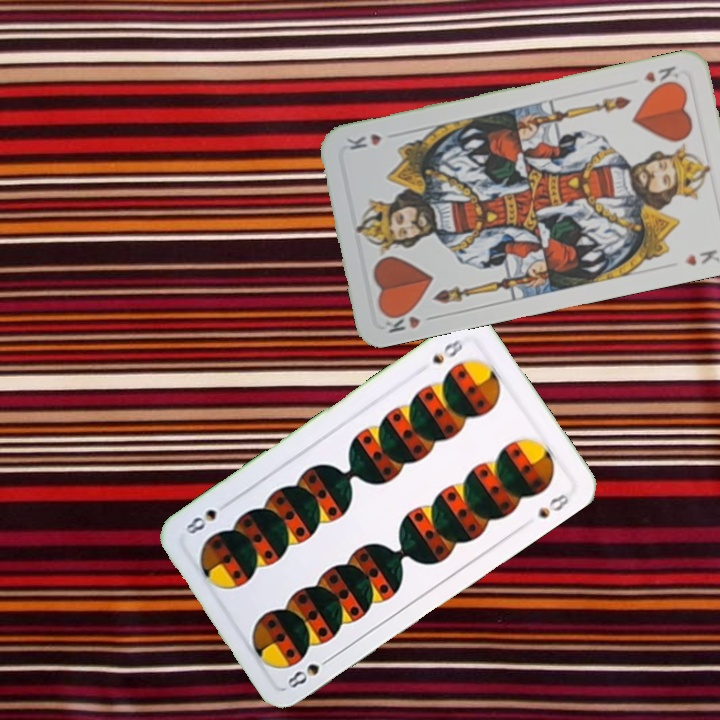HK: (380, 304, 439, 336), (639, 61, 685, 92)
S8: (283, 651, 336, 691), (427, 335, 466, 367)
